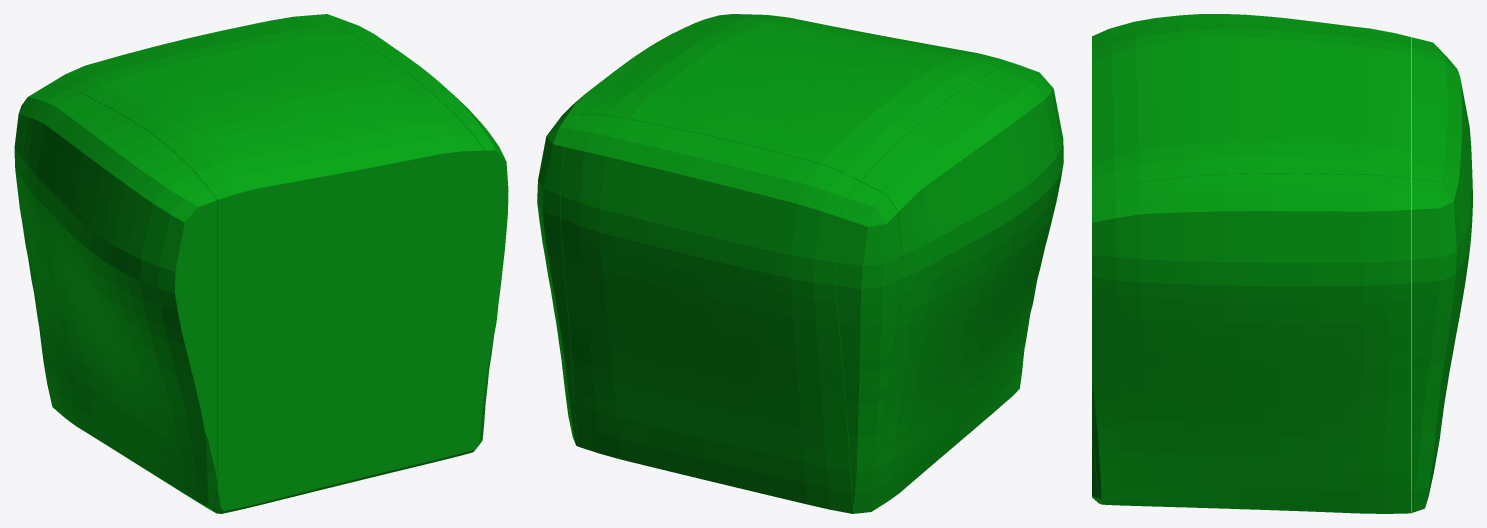
File: 4by10beveledsubdivided.003.fbx
3 renders of one model, left to right at view 1: azimuth 30°, elevation 25°; view 2: azimuth 150°, elevation 25°; view 3: azimuth 270°, elevation 25°, orthographic. The views are drawn at different scales.
Visible parts, largest first — view 1: 4by10beveledsubdivided.003; view 2: 4by10beveledsubdivided.003; view 3: 4by10beveledsubdivided.003.
Part boxes in pixels (left/top/right/bottom): 4by10beveledsubdivided.003: left=14, top=14, right=508, bottom=513; 4by10beveledsubdivided.003: left=537, top=14, right=1063, bottom=513; 4by10beveledsubdivided.003: left=1092, top=14, right=1472, bottom=513.
Size of the model in its own units: 279 by 244 by 238.
